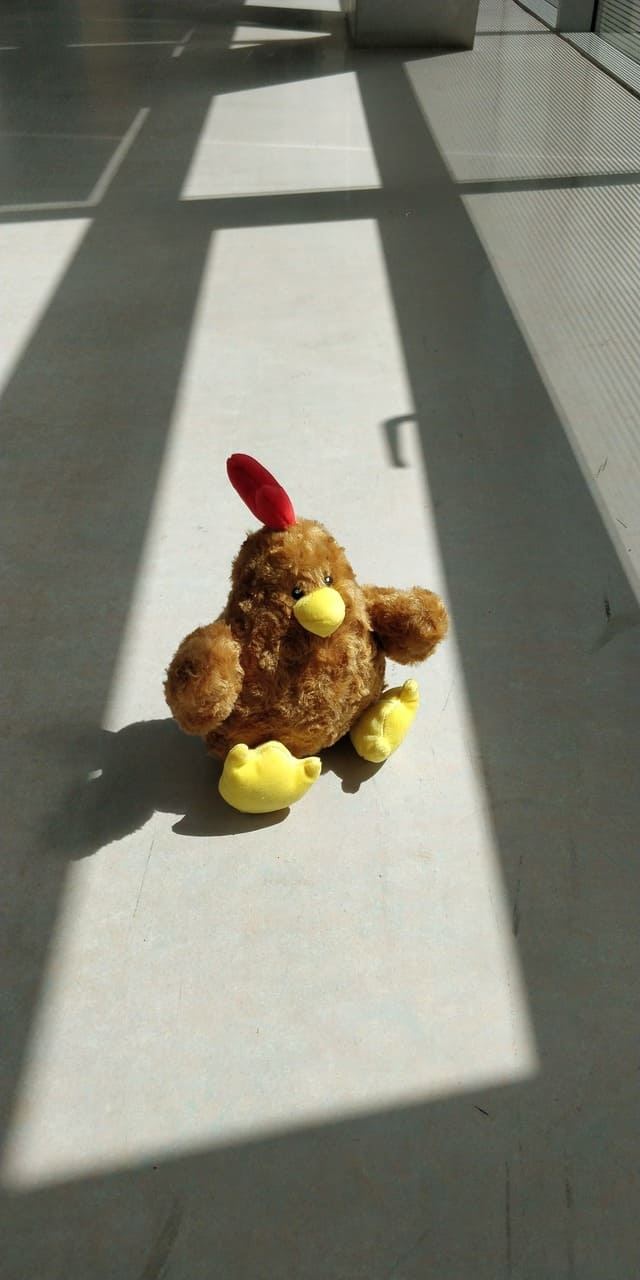fakeChicken: (163, 453, 445, 814)
